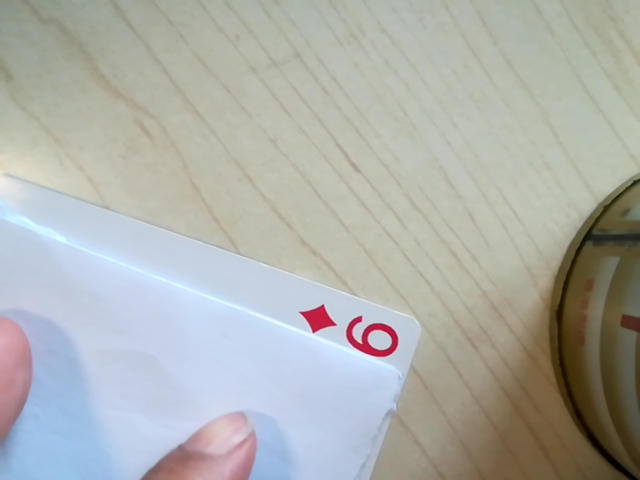fk 9: (305, 300, 412, 365)
